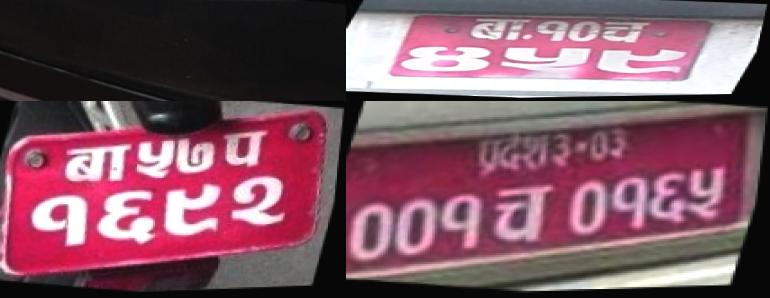0: (346, 198, 408, 264), (387, 195, 450, 259), (562, 179, 622, 239), (561, 19, 609, 44), (584, 132, 616, 163)
1: (24, 190, 102, 251), (429, 190, 501, 253), (602, 171, 662, 234), (524, 19, 578, 44)
2: (226, 174, 299, 230)
3: (541, 132, 582, 169), (602, 124, 635, 161)
4: (392, 42, 505, 76)
5: (490, 43, 601, 79), (680, 164, 734, 225), (129, 136, 178, 180)
6: (94, 186, 168, 245), (640, 174, 694, 228)
7: (170, 134, 222, 178)
9: (158, 181, 231, 240), (588, 45, 701, 80)
ba: (59, 138, 133, 187), (461, 15, 536, 45)
cha: (480, 181, 566, 250), (591, 19, 654, 46)
pa: (214, 126, 274, 175)
